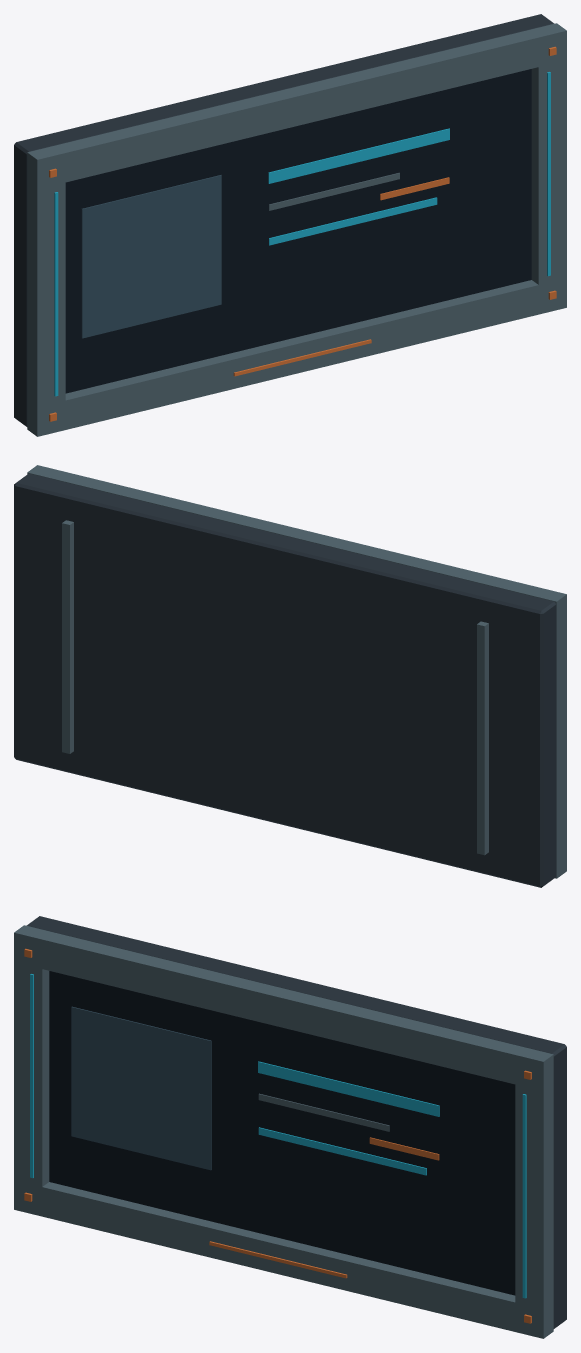
File: 0-20261016-1900-ev036-r06-stage-devlogwallframe.fbx
The picture shows the model from 3 angles, top to bottom: view 1: azimuth 30°, elevation 25°; view 2: azimuth 150°, elevation 25°; view 3: azimuth 330°, elevation 25°; orthographic projection.
Parts seen in each view (by area): view 1: SW_Stage_DevlogWallFrame; view 2: SW_Stage_DevlogWallFrame; view 3: SW_Stage_DevlogWallFrame.
Part boxes in pixels (x1,y1,x2,y2): SW_Stage_DevlogWallFrame: [14, 14, 566, 436]; SW_Stage_DevlogWallFrame: [14, 465, 566, 887]; SW_Stage_DevlogWallFrame: [14, 916, 566, 1338].
Size of the model in its own units: 600 by 300 by 59.05.
